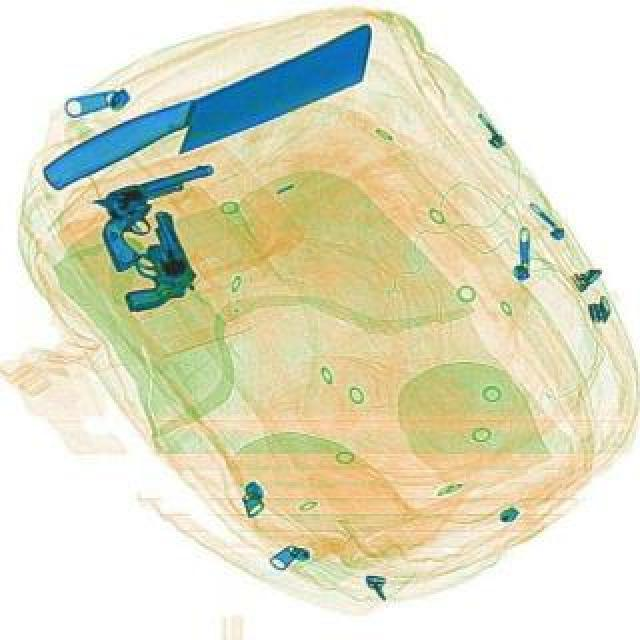gun: (84, 162, 236, 274), (94, 206, 202, 316)
knife: (30, 22, 392, 202)
